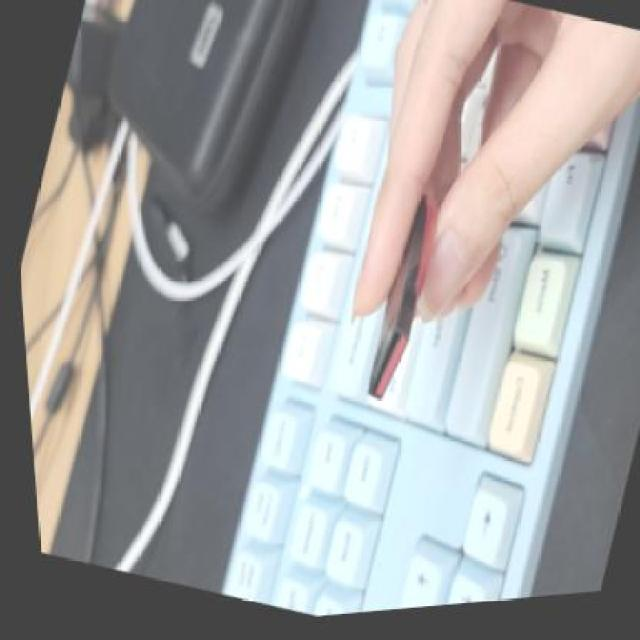Flashdisk: (340, 188, 458, 418)
